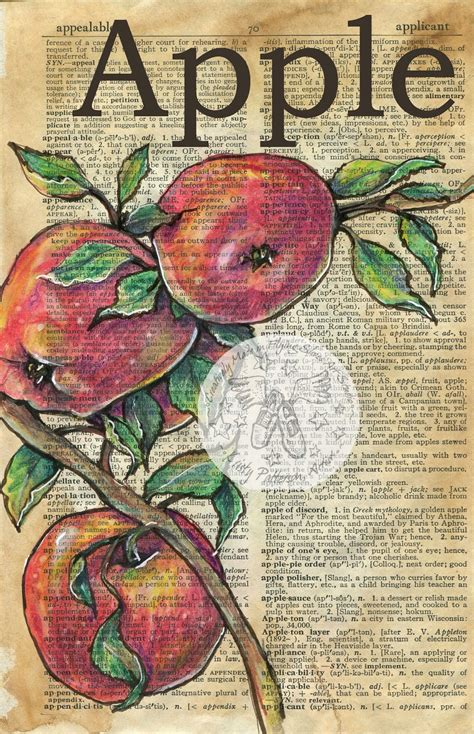apple: (17, 506, 228, 706), (1, 218, 202, 423), (153, 152, 344, 334)
